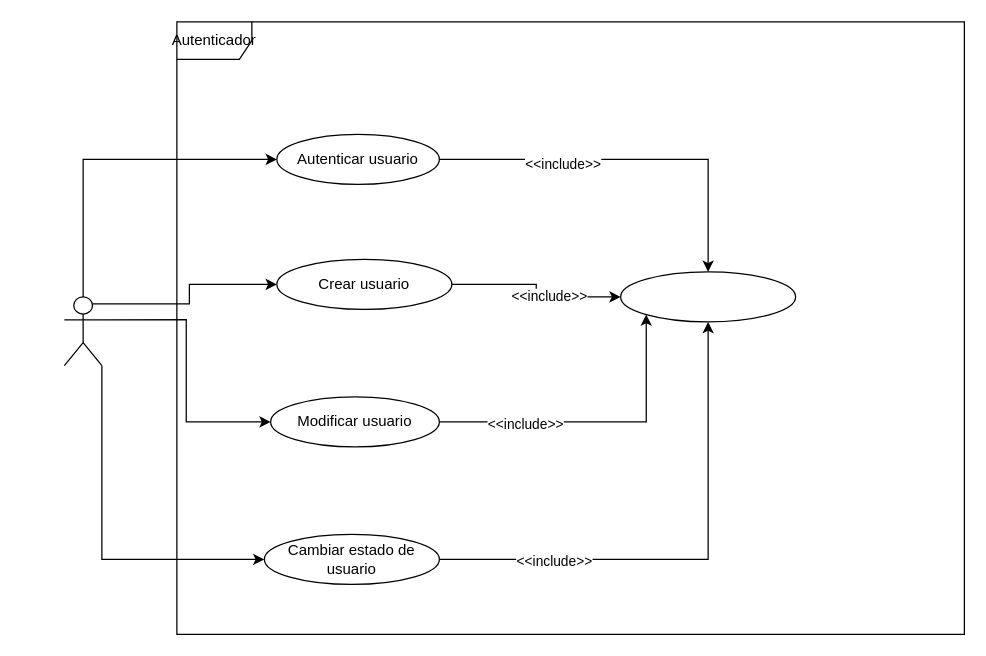
Image size: 986x656. Some labels were removed from this diagram. Each missing label, with the box of its shape:
Registrar Bitacora: (619, 271, 796, 322)
Web Service WCF: (63, 296, 102, 366)
